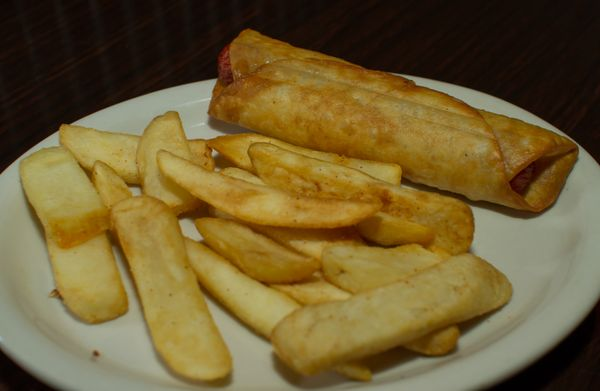pasta: (207, 28, 580, 216)
